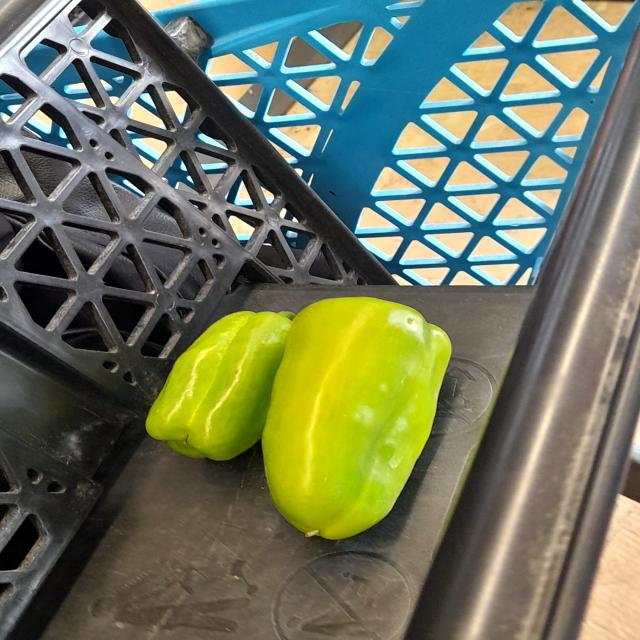bell pepper: (268, 290, 482, 553), (137, 298, 306, 472)
